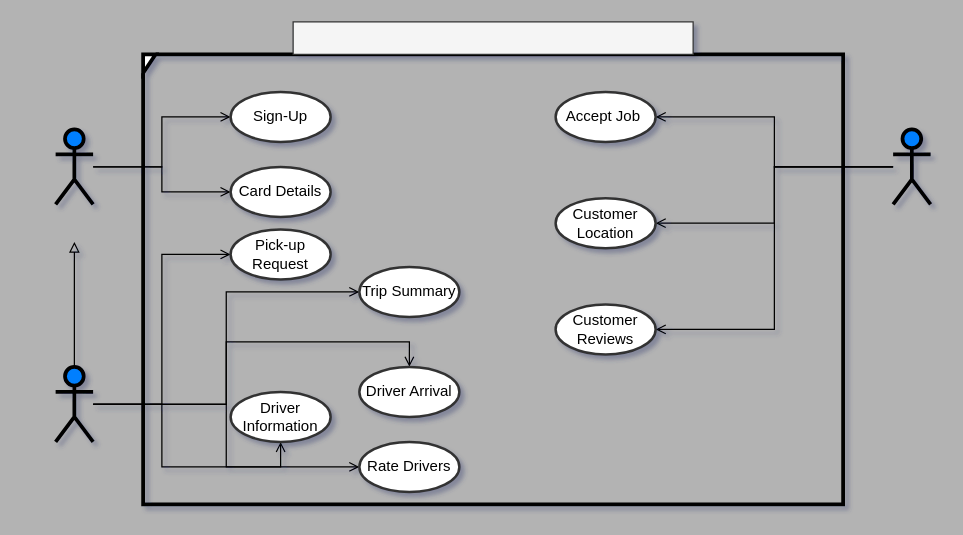
The diagram is 963 pixels wide and 535 high, and some of its shapes have lost their labels. The shapes that lost their labels are listed below. From the top down, each one's box as (x1, y1, x2, y2) in pixels, then its label:
(292, 21, 693, 54): SHUber
(53, 127, 94, 206): New Customer
(891, 127, 932, 206): Driver
(53, 364, 94, 443): Customer
